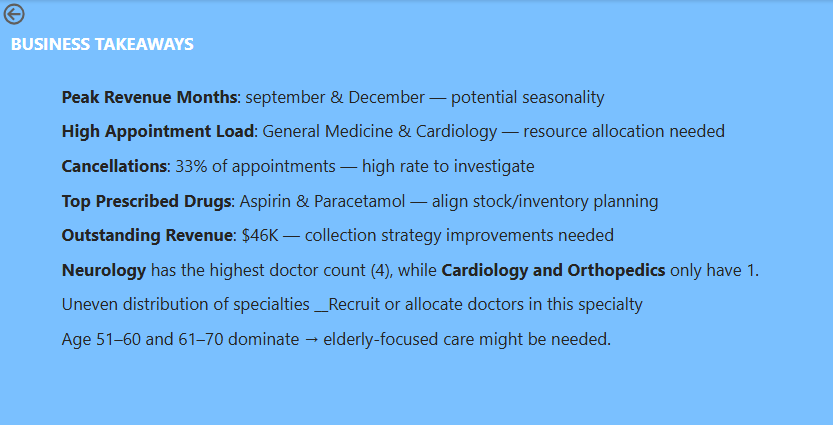

What the dashboard file says about the page in this screenshot:
{"tool":"powerbi","page":{"name":"takeaways","canvas":[1280,720],"ordinal":3},"visuals":[{"type":"textbox","box":[9.9,39.7,280.6,62.4],"z":0},{"type":"textbox","box":[82.2,114.8,1111.2,564.1],"z":1000},{"type":"actionButton","box":[0,0,59.5,39.7],"z":2000}]}

Visuals, with their boxes on the page's 1280x720 design canvas (x1, y1, x2, y2). These are canvas units, not pixel positions in the 833x425 screenshot, which may show the page scaled, cropped or inside an application window:
textbox: bbox=[10, 40, 290, 102]
textbox: bbox=[82, 115, 1193, 679]
actionButton: bbox=[0, 0, 60, 40]
